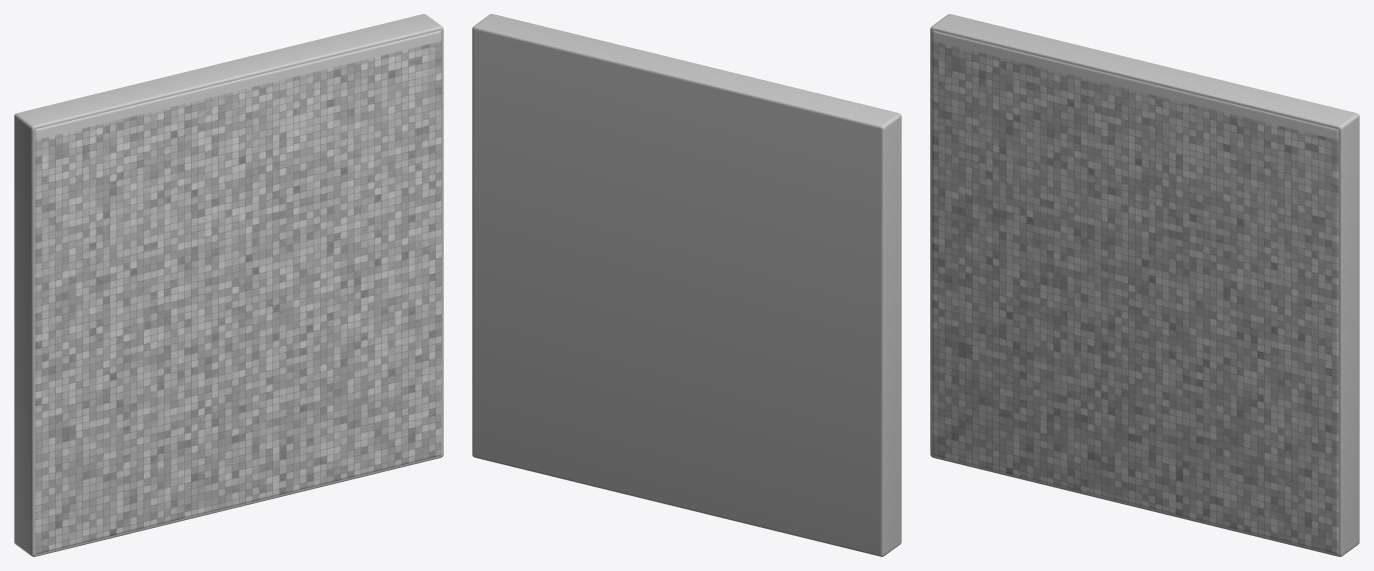
Rendered from PartyBackWall01_1.FBX.
3 renders of one model, left to right at view 1: azimuth 30°, elevation 25°; view 2: azimuth 150°, elevation 25°; view 3: azimuth 330°, elevation 25°, orthographic.
Visible parts, largest first — view 1: PartyBackWall01_1; view 2: PartyBackWall01_1; view 3: PartyBackWall01_1.
Part boxes in pixels (bbox=[...]): PartyBackWall01_1: bbox=[14, 14, 443, 556]; PartyBackWall01_1: bbox=[472, 14, 901, 556]; PartyBackWall01_1: bbox=[930, 14, 1359, 556].
Size of what is drawn, in the model's own units: 2.5 by 2.5 by 0.2039.
